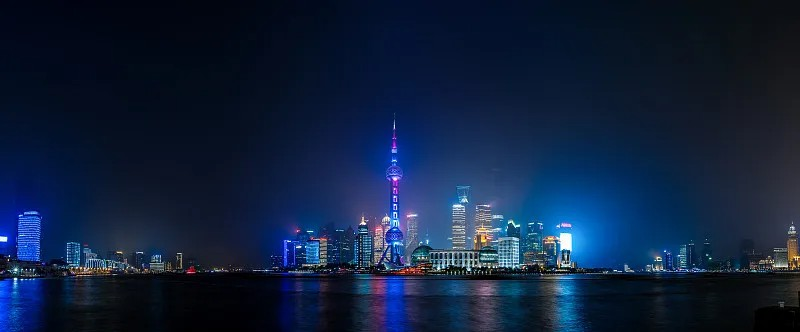Oriental: (379, 112, 405, 264)
